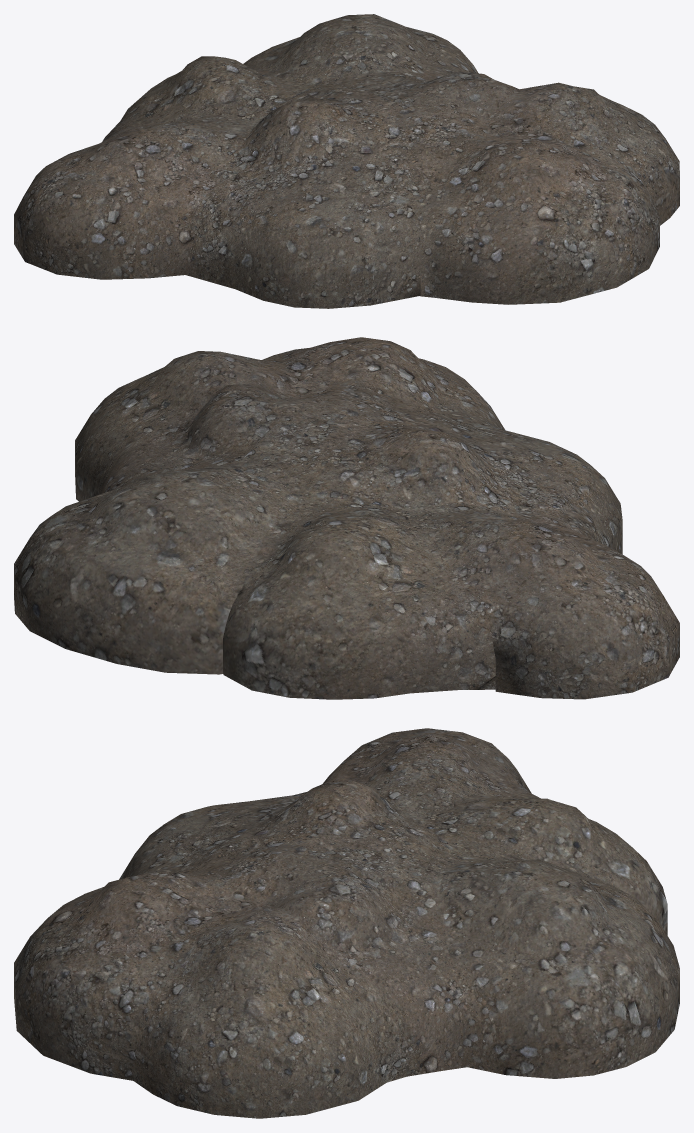
Rendered from cave_floor_bumps_02.dae.
3 renders of one model, top to bottom at view 1: azimuth 30°, elevation 25°; view 2: azimuth 150°, elevation 25°; view 3: azimuth 270°, elevation 25°, orthographic. The views are drawn at different scales.
Parts seen in each view (by area): view 1: 02; view 2: 02; view 3: 02.
Part boxes in pixels (x1,y1,x2,y2): 02: (14, 14, 679, 308); 02: (14, 337, 679, 699); 02: (14, 728, 679, 1118).
Bounding box in the file's own units: 3.59 × 0.7572 × 3.08.
